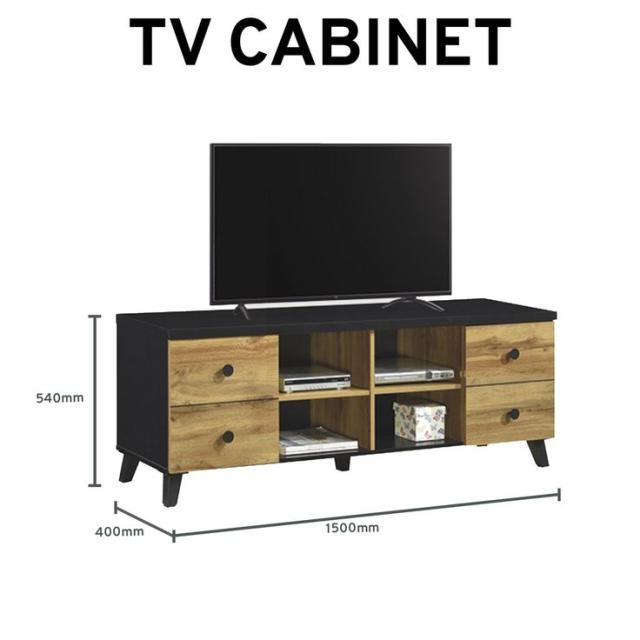obstacle: (115, 296, 557, 507)
